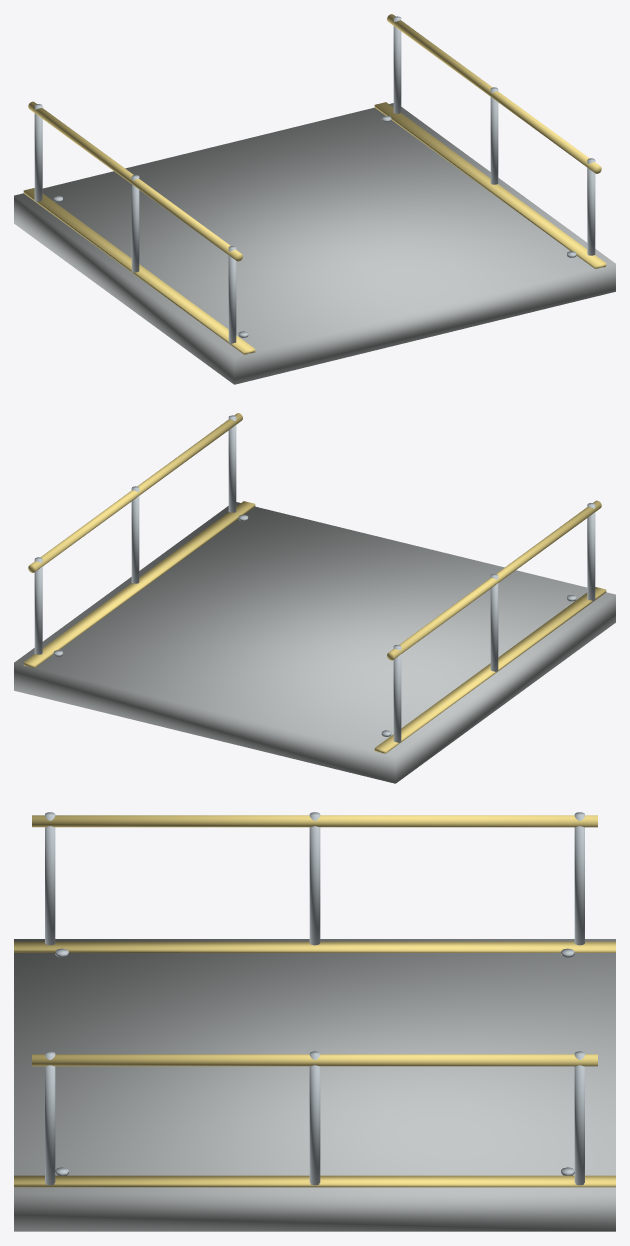
Rendered from node_platform_ultra.glb.
3 renders of one model, top to bottom at view 1: azimuth 30°, elevation 25°; view 2: azimuth 150°, elevation 25°; view 3: azimuth 270°, elevation 25°, orthographic. The views are drawn at different scales.
Parts seen in each view (by area): view 1: Base_concrete, Markings_yellow, Railing_steel, Railing_yellow; view 2: Base_concrete, Markings_yellow, Railing_steel, Railing_yellow; view 3: Base_concrete, Markings_yellow, Railing_yellow, Railing_steel.
Boxes of the visible parts, bbox=[...] form: Base_concrete: bbox=[14, 103, 615, 384]; Markings_yellow: bbox=[23, 102, 606, 354]; Railing_steel: bbox=[34, 16, 595, 343]; Railing_yellow: bbox=[28, 14, 601, 261]; Base_concrete: bbox=[14, 502, 615, 783]; Markings_yellow: bbox=[23, 501, 606, 753]; Railing_steel: bbox=[34, 415, 595, 742]; Railing_yellow: bbox=[28, 413, 601, 660]; Base_concrete: bbox=[14, 939, 615, 1231]; Markings_yellow: bbox=[14, 941, 615, 1187]; Railing_yellow: bbox=[32, 815, 597, 1066]; Railing_steel: bbox=[45, 812, 584, 1185].
Bounding box in the file's own units: 4 × 1.25 × 4.
